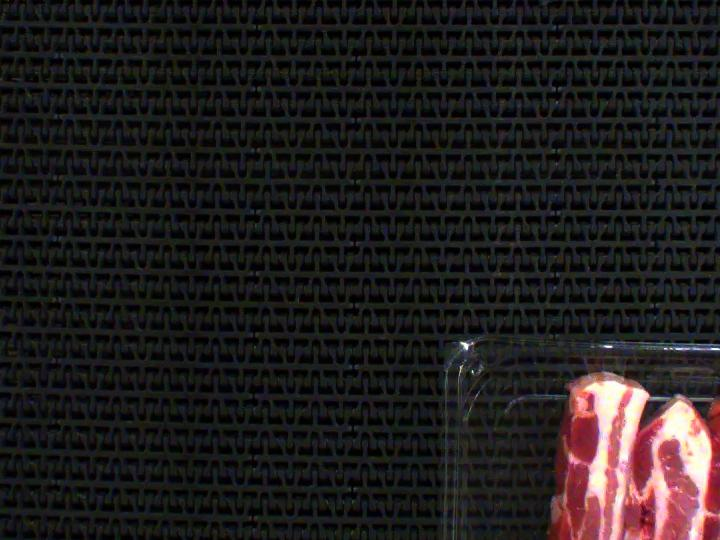packaging-error: (580, 348, 637, 384)
